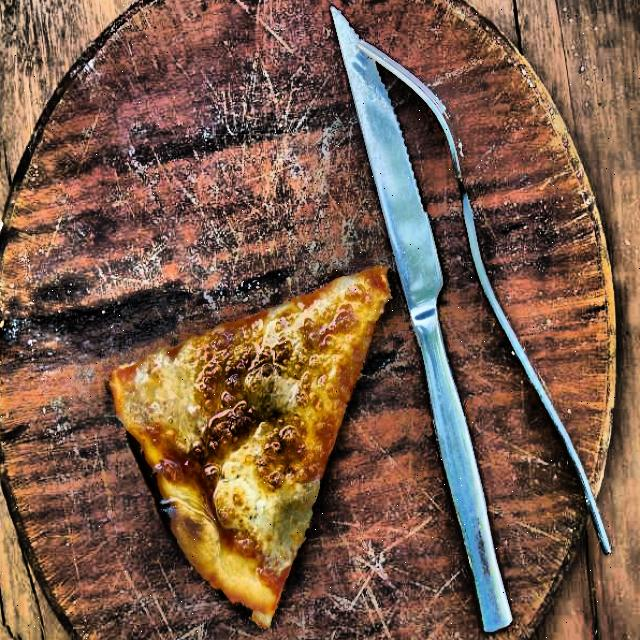knife: (328, 0, 516, 639)
